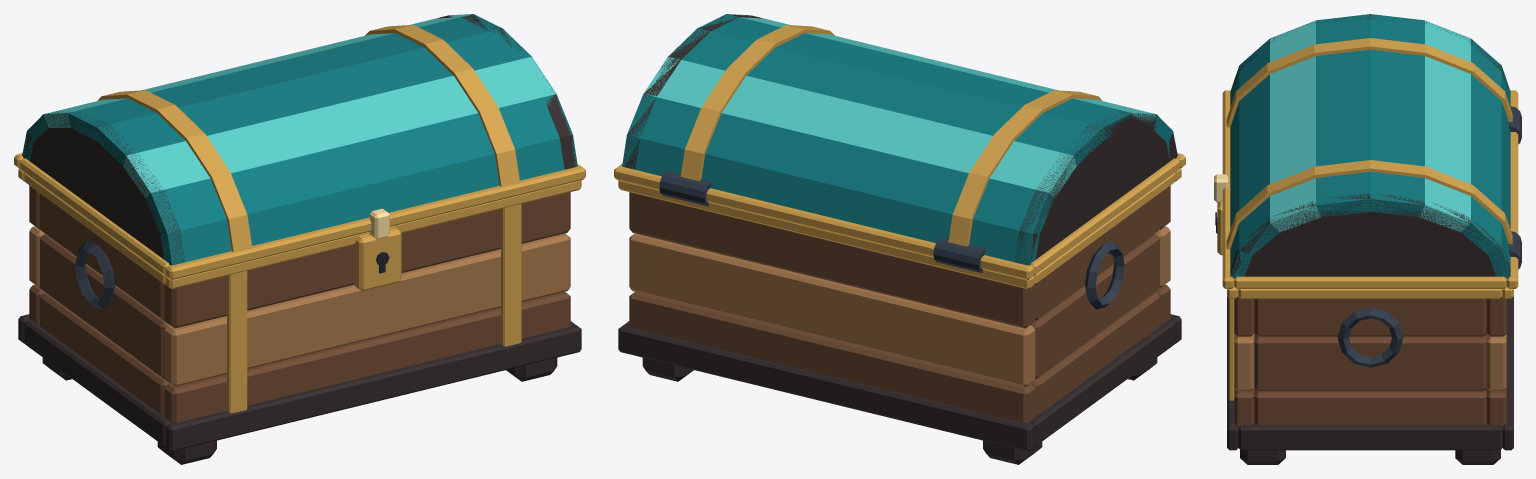
Rendered from 01_Wayfarer_Chest.glb.
The picture shows the model from 3 angles, left to right: view 1: azimuth 30°, elevation 25°; view 2: azimuth 150°, elevation 25°; view 3: azimuth 270°, elevation 25°; orthographic projection. The views are drawn at different scales.
Visible parts, largest first — view 1: 01_Wayfarer_Chest__Body, 01_Wayfarer_Chest__Lid; view 2: 01_Wayfarer_Chest__Body, 01_Wayfarer_Chest__Lid; view 3: 01_Wayfarer_Chest__Lid, 01_Wayfarer_Chest__Body.
Part boxes in pixels (bbox=[...]): 01_Wayfarer_Chest__Body: bbox=[18, 168, 581, 464]; 01_Wayfarer_Chest__Lid: bbox=[14, 14, 585, 279]; 01_Wayfarer_Chest__Body: bbox=[618, 168, 1181, 464]; 01_Wayfarer_Chest__Lid: bbox=[614, 14, 1185, 279]; 01_Wayfarer_Chest__Lid: bbox=[1214, 14, 1518, 288]; 01_Wayfarer_Chest__Body: bbox=[1215, 106, 1521, 464].
Size of the model in its own units: 3.16 by 2.13 by 2.14.
1 material, 1 textured.
